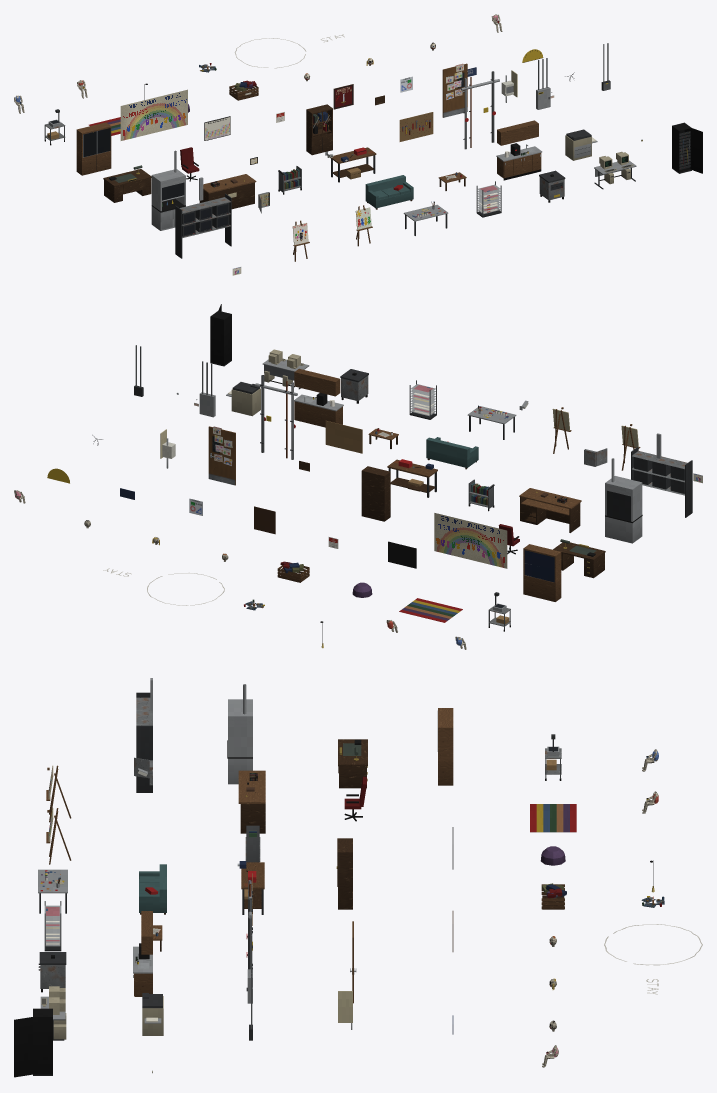
The model's file is floor2_kit.glb.
3 renders of one model, top to bottom at view 1: azimuth 30°, elevation 25°; view 2: azimuth 150°, elevation 25°; view 3: azimuth 270°, elevation 25°, orthographic. The views are drawn at different scales.
Parts seen in each view (by area): view 1: mural_values, monitor_wall, kitchenette, fume_cupboard, trophy_cabinet, network_cabinet, checkout_desk, history_cabinet, door_leaf_art, sofa, desk_executive, workbench (+13 smaller); view 2: mural_values, fume_cupboard, monitor_wall, kitchenette, trophy_cabinet, checkout_desk, history_cabinet, door_leaf_art, network_cabinet, sofa, desk_executive, workbench (+12 smaller); view 3: network_cabinet, fume_cupboard, checkout_desk, monitor_wall, desk_executive, kitchenette, rug, trophy_cabinet, sofa, history_cabinet, workbench, kiln (+5 smaller).
Boxes of the visible parts, <box> form: mural_values: <box>120,89,187,140</box>; monitor_wall: <box>175,177,231,258</box>; kitchenette: <box>496,120,542,180</box>; fume_cupboard: <box>151,150,185,230</box>; trophy_cabinet: <box>76,122,111,175</box>; network_cabinet: <box>672,122,702,173</box>; checkout_desk: <box>199,174,256,209</box>; history_cabinet: <box>306,104,332,155</box>; door_leaf_art: <box>442,63,467,117</box>; sofa: <box>365,175,413,209</box>; desk_executive: <box>103,165,151,202</box>; workbench: <box>330,147,376,182</box>; mural_values: <box>434,513,507,568</box>; fume_cupboard: <box>605,458,642,543</box>; monitor_wall: <box>631,433,692,517</box>; kitchenette: <box>294,368,343,427</box>; trophy_cabinet: <box>523,544,561,601</box>; checkout_desk: <box>519,488,581,532</box>; history_cabinet: <box>361,466,390,521</box>; door_leaf_art: <box>208,426,235,485</box>; network_cabinet: <box>210,304,231,366</box>; sofa: <box>426,437,478,469</box>; desk_executive: <box>553,539,605,578</box>; workbench: <box>387,459,437,497</box>; network_cabinet: <box>14,1008,52,1077</box>; fume_cupboard: <box>227,684,252,784</box>; checkout_desk: <box>238,770,265,833</box>; monitor_wall: <box>136,678,152,792</box>; desk_executive: <box>338,739,367,788</box>; kitchenette: <box>133,911,152,996</box>; rug: <box>530,804,576,832</box>; trophy_cabinet: <box>437,708,453,785</box>; sofa: <box>139,864,166,914</box>; history_cabinet: <box>336,838,352,909</box>; workbench: <box>237,861,264,914</box>; kiln: <box>38,952,66,992</box>.
Size of the model in its own units: 22.71 by 4.25 by 20.66.
Materials: 9 (9 with a texture image).
